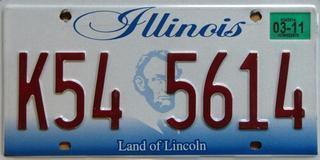placa de veiculo: (9, 2, 314, 155)
